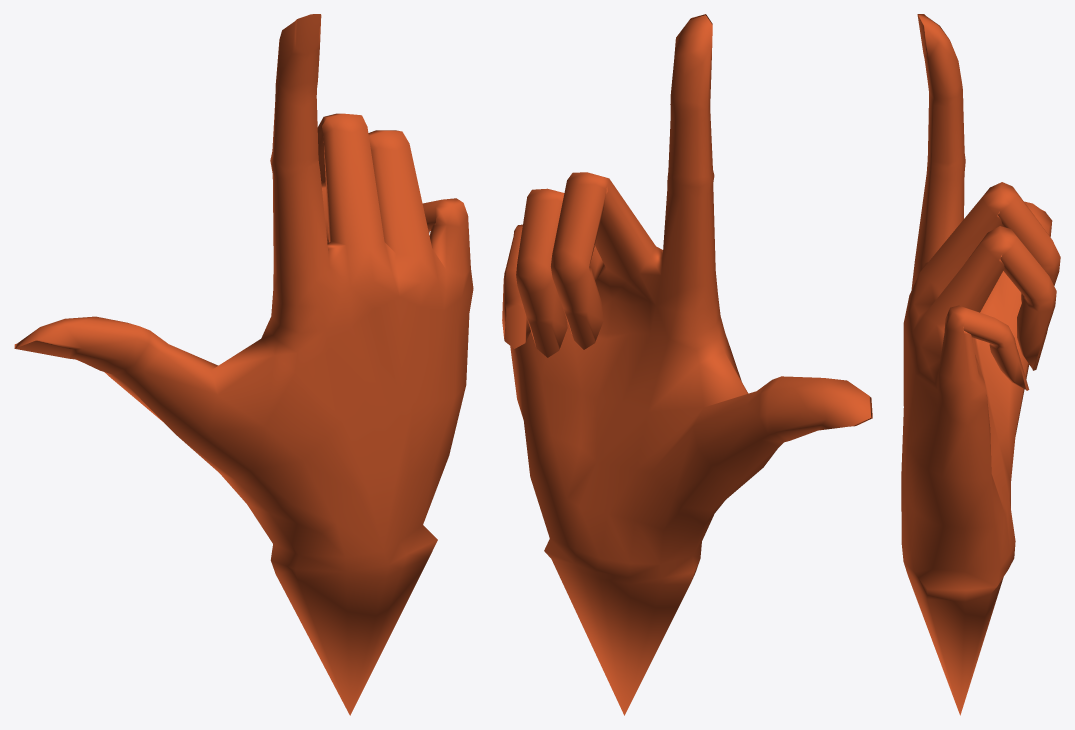
Rendered from Hand_yubisasi_B.obj.
The picture shows the model from 3 angles, left to right: view 1: azimuth 30°, elevation 25°; view 2: azimuth 150°, elevation 25°; view 3: azimuth 270°, elevation 25°; orthographic projection. The views are drawn at different scales.
Visible parts, largest first — view 1: Hand_yubisasi_B_MDL; view 2: Hand_yubisasi_B_MDL; view 3: Hand_yubisasi_B_MDL.
Boxes of the visible parts, x1,y1,x2,y2 form: Hand_yubisasi_B_MDL: (14,14,473,715); Hand_yubisasi_B_MDL: (502,14,872,715); Hand_yubisasi_B_MDL: (901,14,1060,715).
Size of the model in its own units: 12.28 by 20.66 by 4.43.
Materials: 1 (1 with a texture image).
